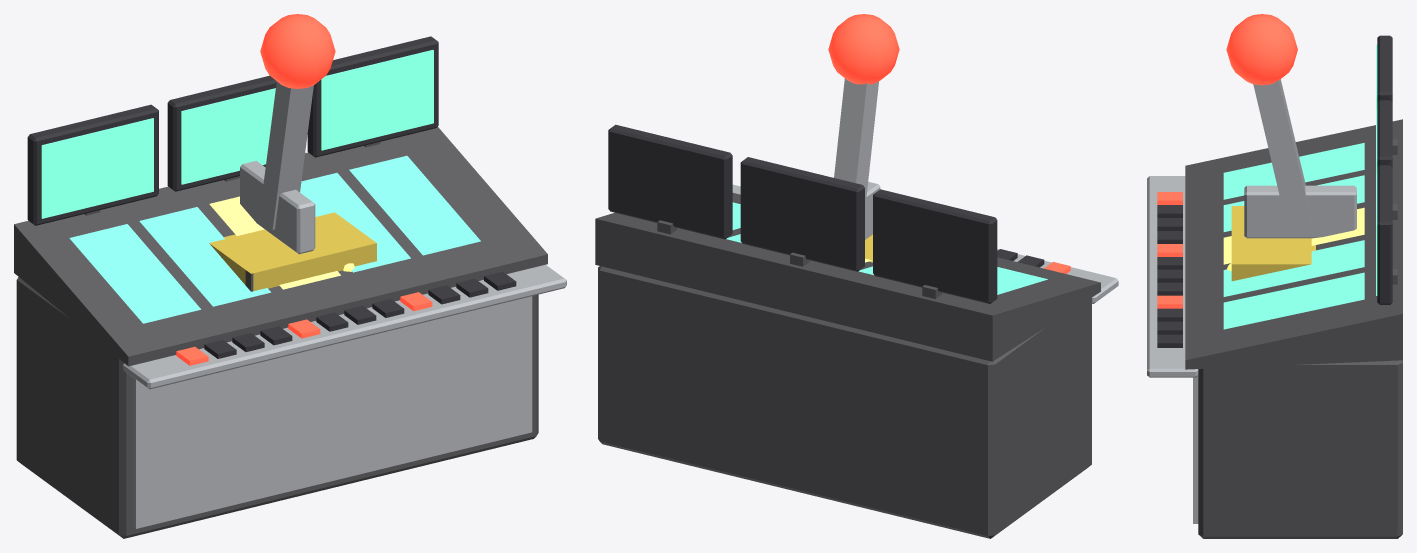
The model's file is control_room.glb.
3 views of the same model, side by side, from view 1: azimuth 30°, elevation 25°; view 2: azimuth 150°, elevation 25°; view 3: azimuth 270°, elevation 25° (orthographic). The views are drawn at different scales.
Parts seen in each view (by area): view 1: fc_console_mesh, fc_lever_mesh; view 2: fc_console_mesh, fc_lever_mesh; view 3: fc_console_mesh, fc_lever_mesh.
Part boxes in pixels (x1,y1,x2,y2): fc_console_mesh: (14,36,566,538); fc_lever_mesh: (209,14,376,291); fc_console_mesh: (595,124,1118,538); fc_lever_mesh: (828,14,899,262); fc_console_mesh: (1147,35,1402,538); fc_lever_mesh: (1226,14,1356,281).
Bounding box in the file's own units: 1.8 × 1.84 × 1.
